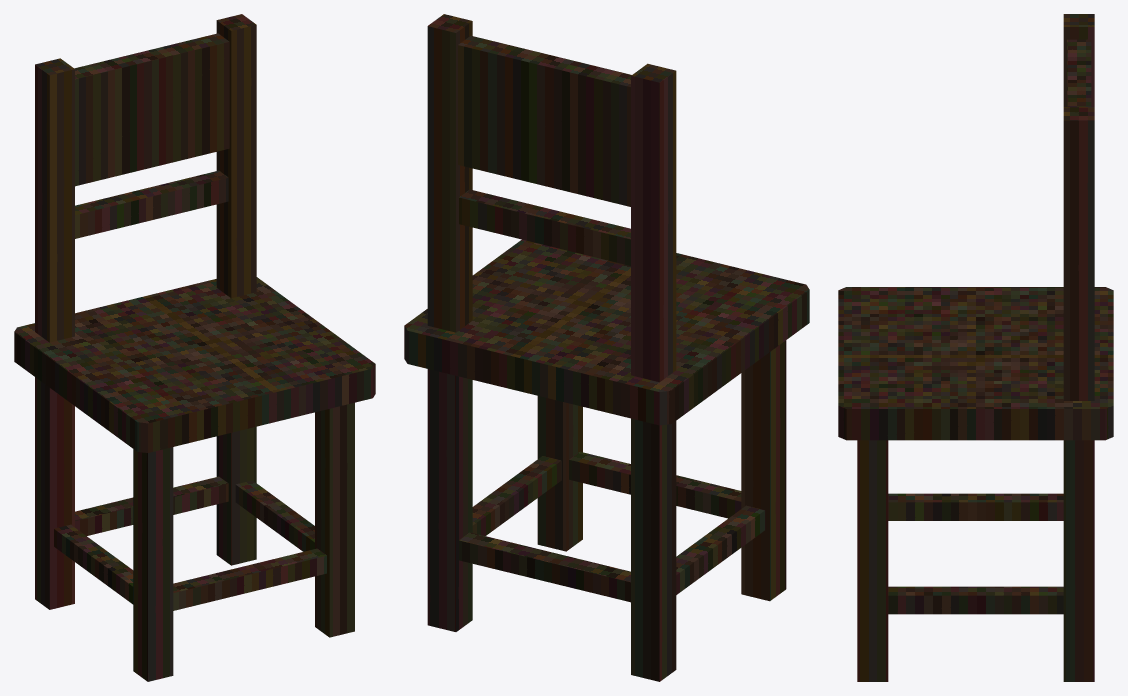
File: HallChair.glb
3 views of the same model, side by side, from view 1: azimuth 30°, elevation 25°; view 2: azimuth 150°, elevation 25°; view 3: azimuth 270°, elevation 25° (orthographic). The views are drawn at different scales.
Visible parts, largest first — view 1: HallChair; view 2: HallChair; view 3: HallChair.
Boxes of the visible parts, x1,y1,x2,y2 form: HallChair: (14, 14, 375, 681); HallChair: (404, 14, 809, 681); HallChair: (838, 14, 1113, 681).
Size of the model in its own units: 0.42 by 0.9 by 0.4.
1 material, 1 textured.
